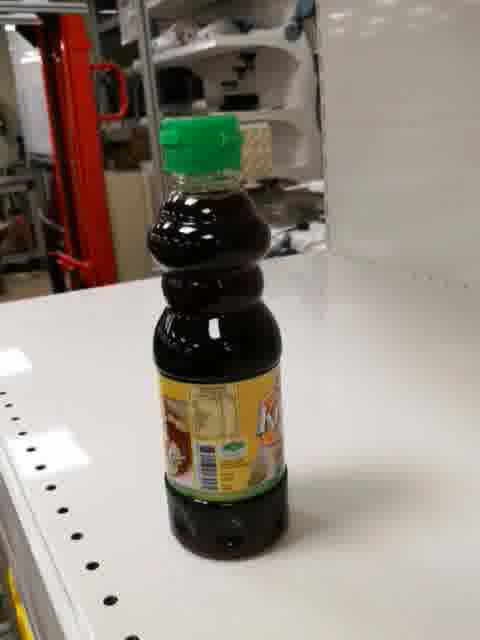cookingoil: (143, 113, 289, 563)
